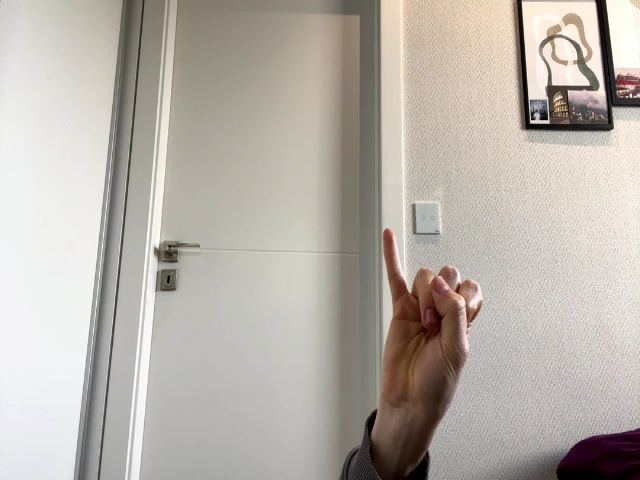I: (382, 228, 483, 416)
